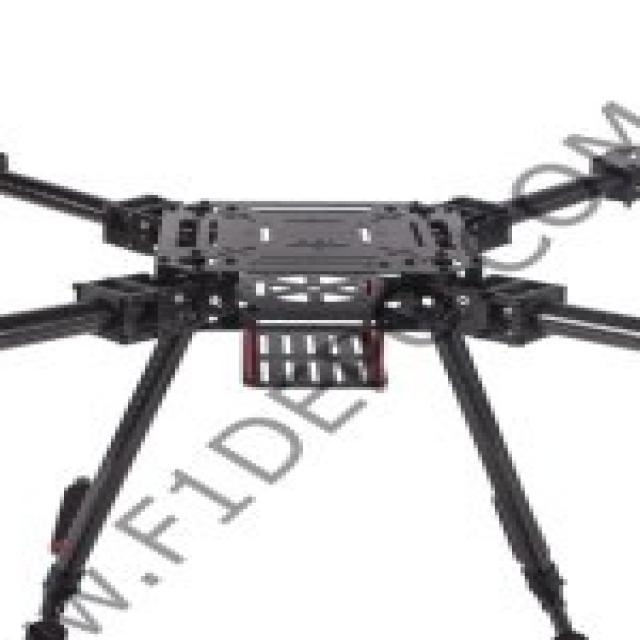drone: (0, 109, 640, 552)
